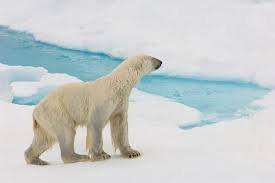bear: (24, 53, 163, 166)
